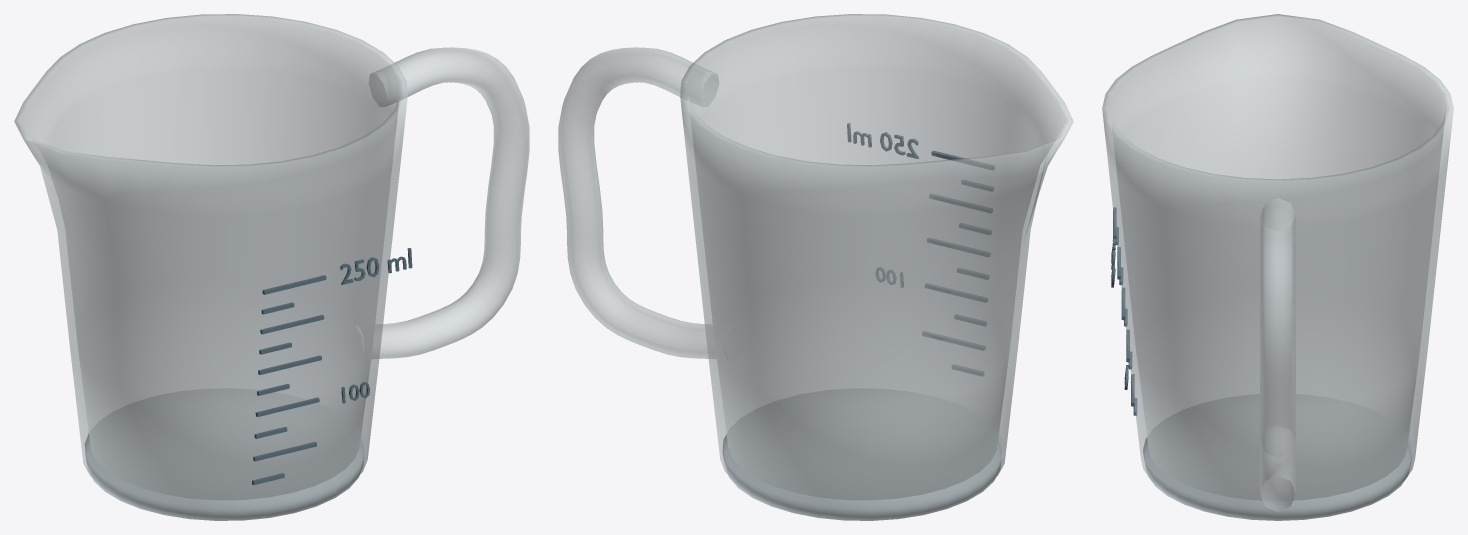
Rendered from item-34.glb.
3 renders of one model, left to right at view 1: azimuth 30°, elevation 25°; view 2: azimuth 150°, elevation 25°; view 3: azimuth 270°, elevation 25°, orthographic. The views are drawn at different scales.
Visible parts, largest first — view 1: mug, foot, handle, t250; view 2: mug, foot, handle, t250; view 3: mug, foot, handle.
Part boxes in pixels (box(x1,y1,x2,y2)): mug: box(14, 14, 407, 518); foot: box(84, 389, 365, 520); handle: box(369, 47, 529, 358); t250: box(340, 248, 412, 284); mug: box(680, 14, 1073, 518); foot: box(722, 389, 1003, 520); handle: box(558, 47, 718, 358); t250: box(847, 123, 918, 158); mug: box(1102, 14, 1453, 518); foot: box(1143, 394, 1412, 520); handle: box(1260, 198, 1295, 511).
Size of the model in its own units: 0.1303 by 0.092 by 0.082.
